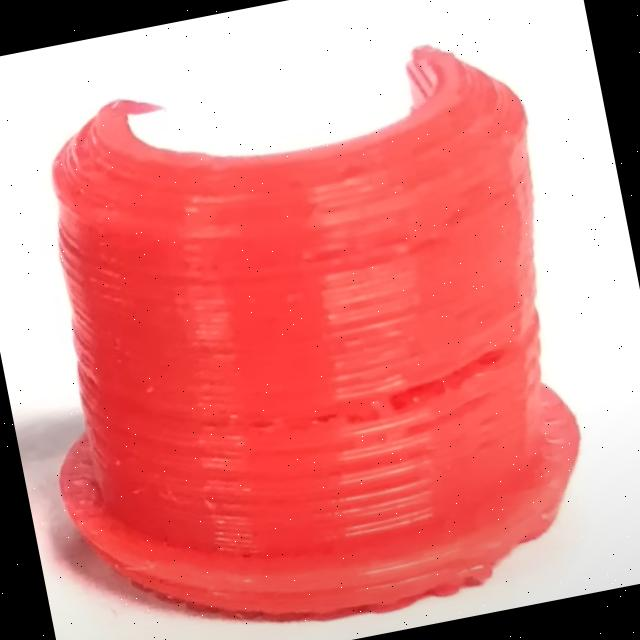cracks: (270, 312, 582, 458)
